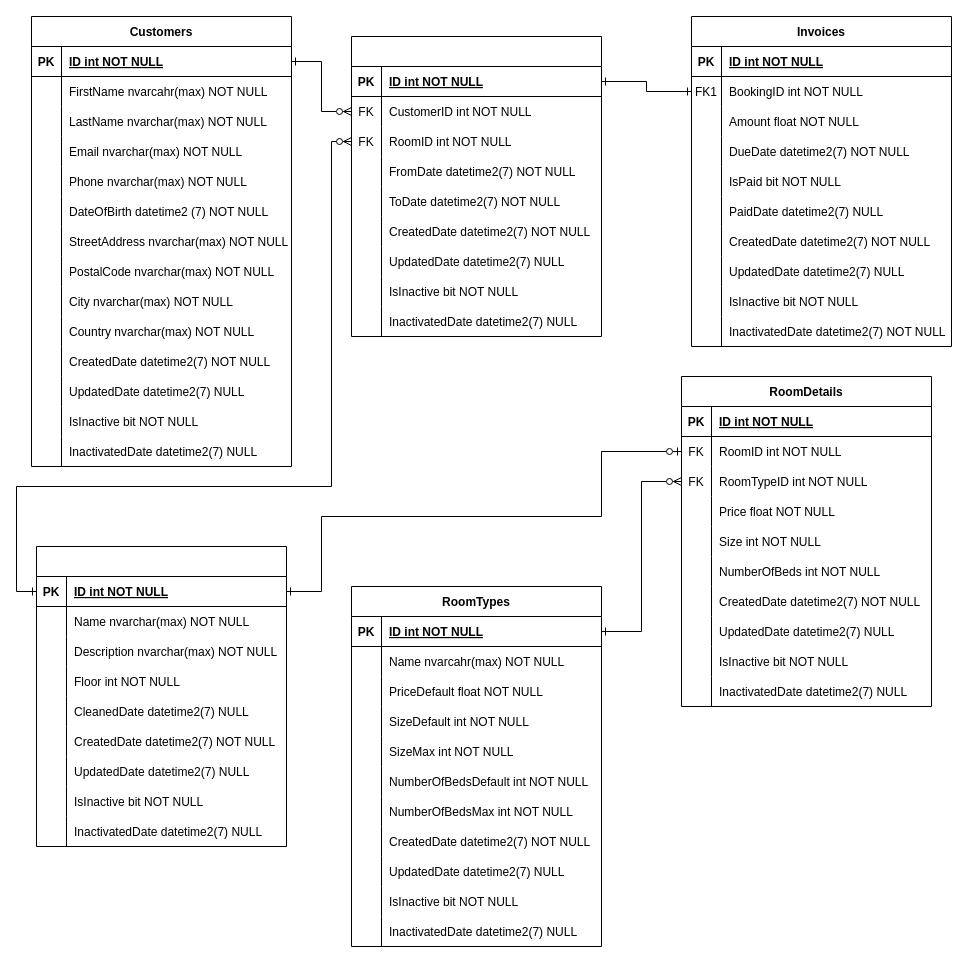
The diagram is 968 pixels wide and 963 high, and some of its shapes have lost their labels. Each missing label, with the box of its shape:
Bookings: (350, 36, 602, 336)
Rooms: (36, 546, 286, 846)
